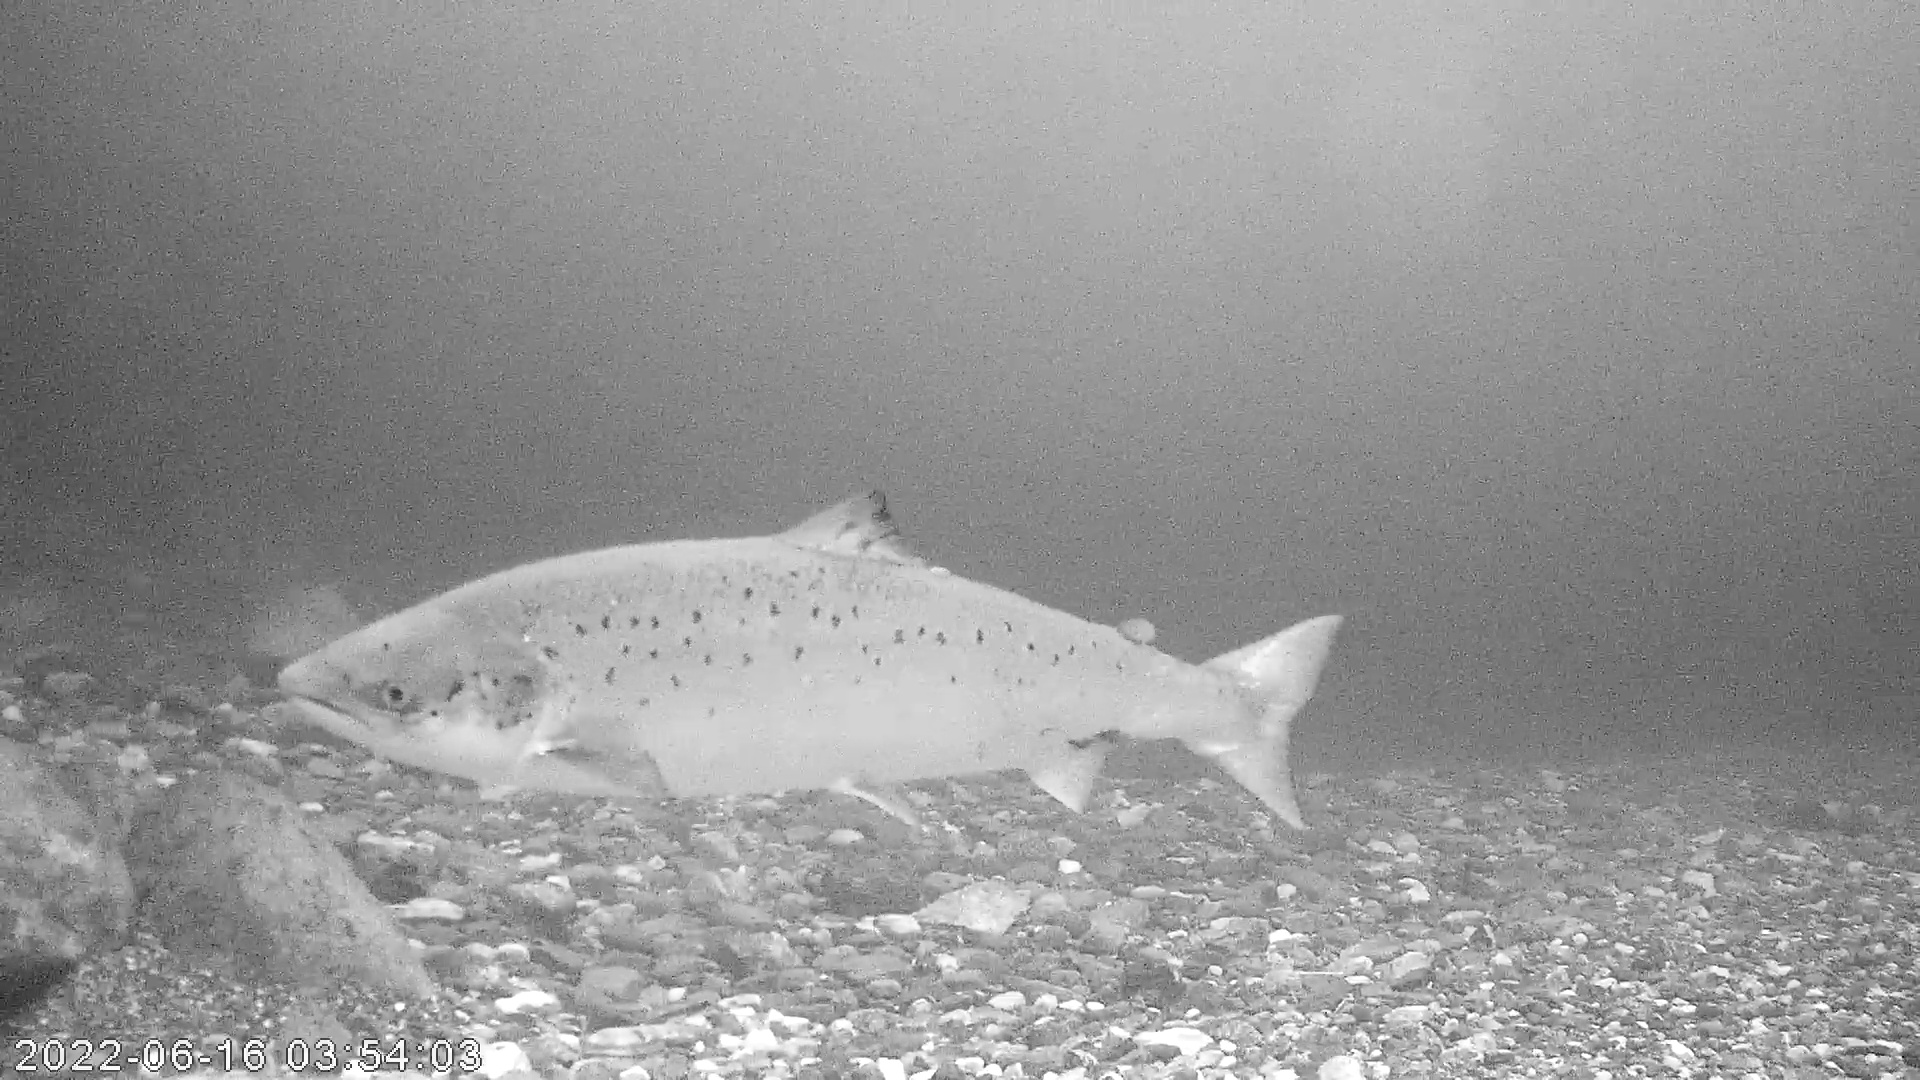salmon: (274, 487, 1341, 835)
